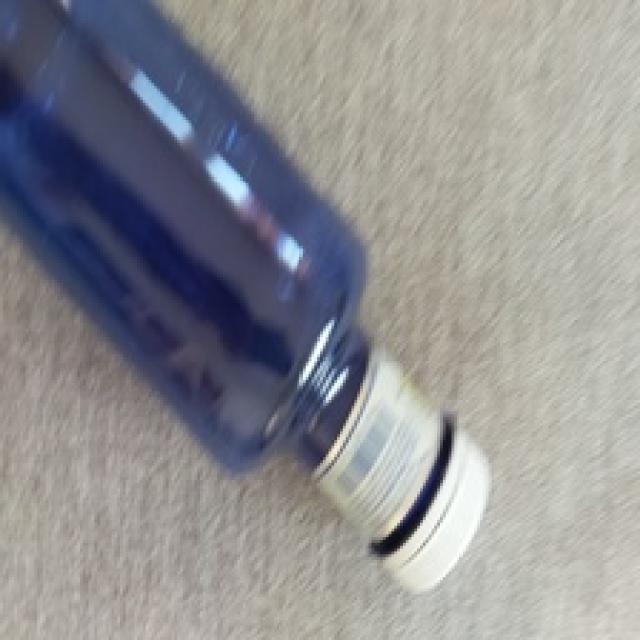plastic: (0, 0, 500, 591)
